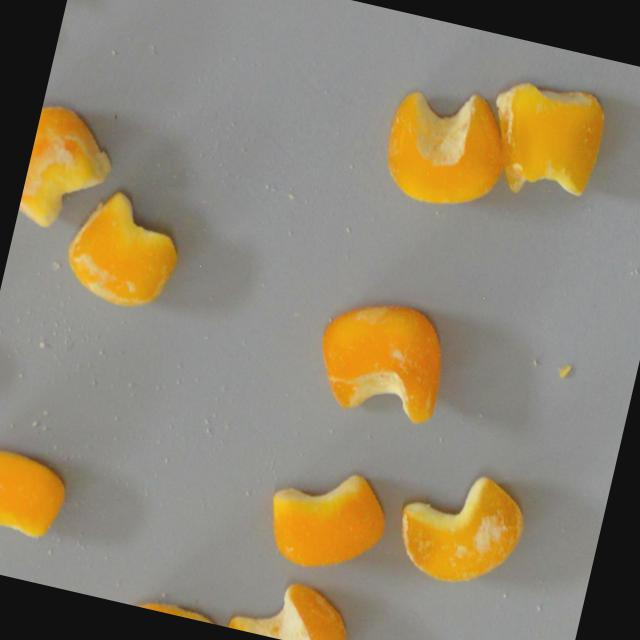dañado: (303, 285, 459, 436), (368, 71, 520, 220), (381, 455, 536, 601), (475, 68, 612, 212), (54, 179, 193, 320), (14, 95, 126, 242), (224, 566, 361, 640)
no_canjicado: (257, 454, 397, 584)
pelicula: (0, 446, 75, 548)
punto_negro: (125, 589, 241, 629)
